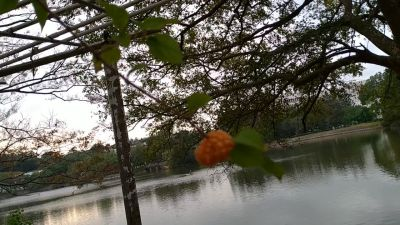eggs: (194, 128, 236, 167)
